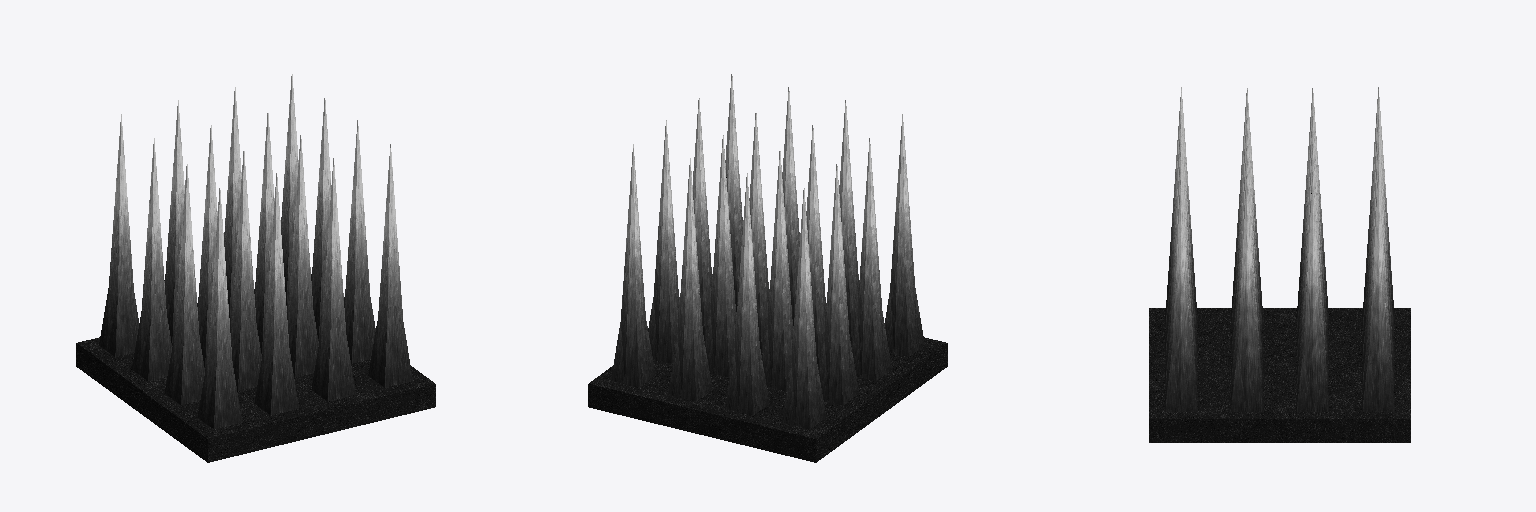
3 views of the same model, side by side, from view 1: azimuth 30°, elevation 25°; view 2: azimuth 150°, elevation 25°; view 3: azimuth 270°, elevation 25° (orthographic).
Visible parts, largest first — view 1: spike2; view 2: spike2; view 3: spike2.
Boxes of the visible parts, x1=… form: spike2: x1=76, y1=74, x2=435, y2=462; spike2: x1=588, y1=74, x2=947, y2=462; spike2: x1=1149, y1=87, x2=1410, y2=442.
Size of the model in its own units: 2 by 2.2 by 2.
1 materials, 1 textured.